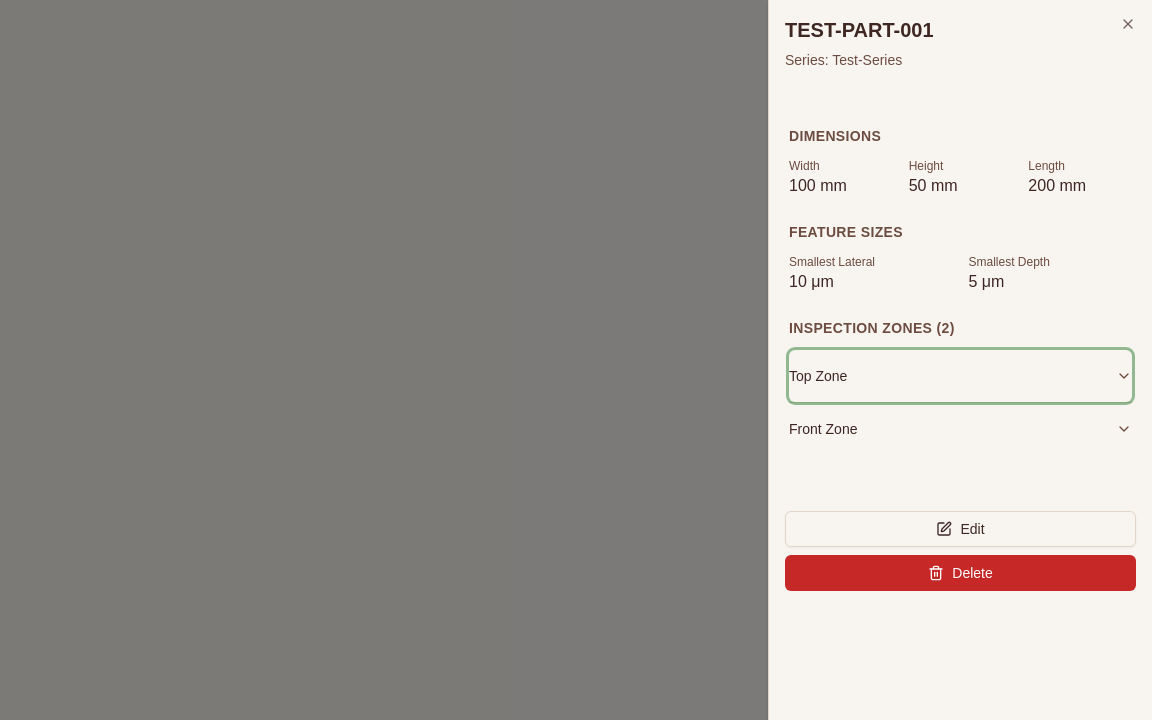
PartDetailPanel › AC-2.7.4: Row Click Opens Detail Side Panel › expands zone to show details
This screenshot has width=1152, height=720.
Click to expand the first zone
Click the button "Top Zone".
click(818, 376)  # box [789,350,1132,402]
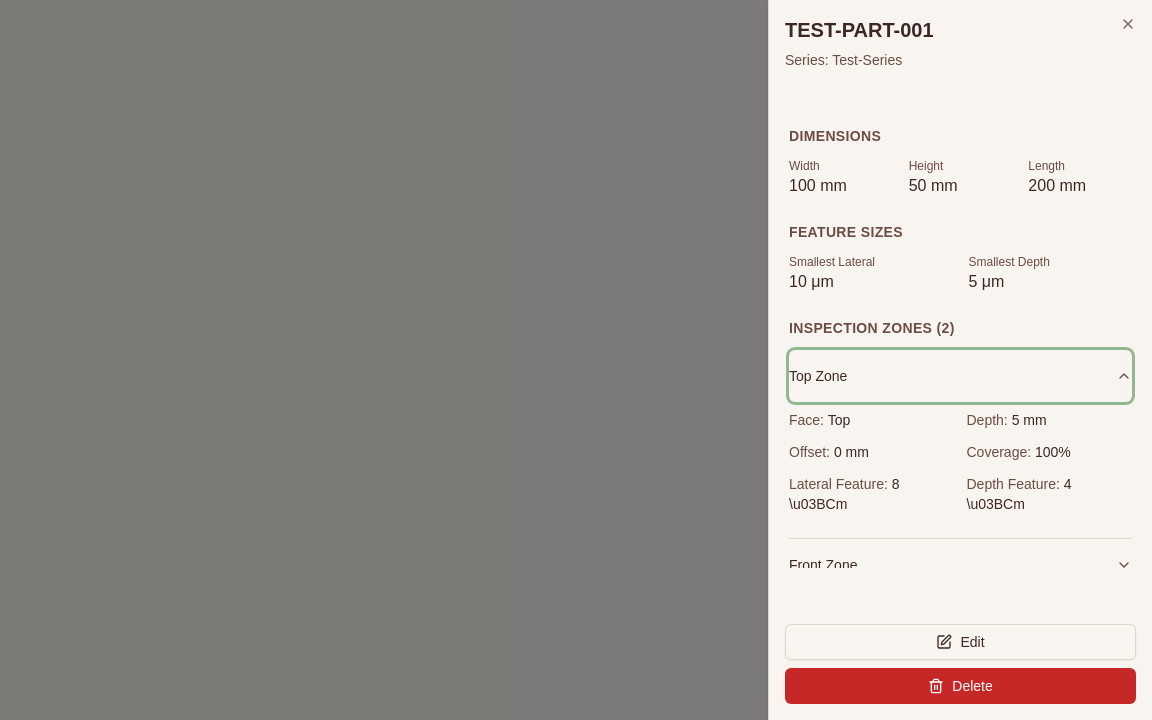
expect the text "Face:" is shown: met, box [789,412,824,428]
expect the text "Top" is shown: met, box [828,412,850,428]
expect the text "Depth:" is shown: met, box [966,412,1008,428]
